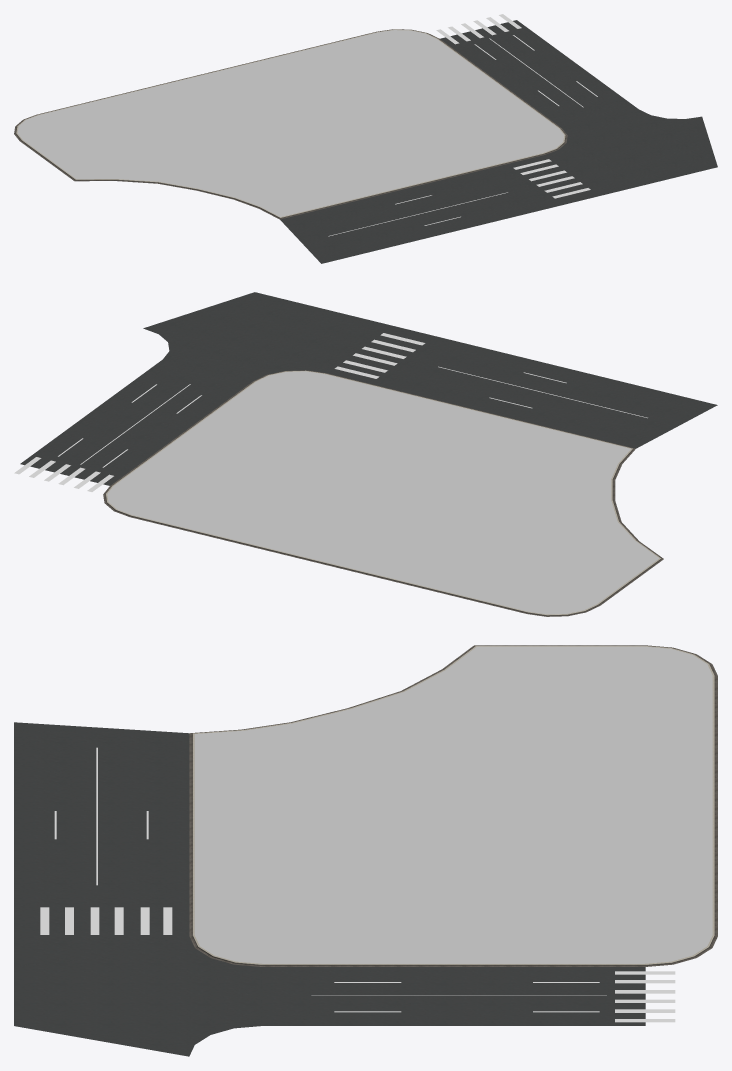
File: New_Terrain_Area_18.fbx
The picture shows the model from 3 angles, top to bottom: view 1: azimuth 30°, elevation 25°; view 2: azimuth 150°, elevation 25°; view 3: azimuth 270°, elevation 25°; orthographic projection. The views are drawn at different scales.
Visible parts, largest first — view 1: Area_18, Road_23.001, Road_Alpha_64, Road_Alpha_33; view 2: Area_18, Road_23.001, Road_Alpha_64, Road_Alpha_33; view 3: Area_18, Road_23.001, Road_Alpha_33, Road_Alpha_64.
Boxes of the visible parts, x1=… form: Area_18: x1=14, y1=29, x2=567, y2=219; Road_23.001: x1=280, y1=20, x2=717, y2=263; Road_Alpha_64: x1=328, y1=159, x2=590, y2=236; Road_Alpha_33: x1=436, y1=14, x2=597, y2=107; Area_18: x1=103, y1=370, x2=663, y2=616; Road_23.001: x1=20, y1=292, x2=717, y2=485; Road_Alpha_64: x1=334, y1=333, x2=647, y2=418; Road_Alpha_33: x1=14, y1=384, x2=201, y2=491; Area_18: x1=189, y1=645, x2=717, y2=966; Road_23.001: x1=14, y1=722, x2=645, y2=1056; Road_Alpha_33: x1=311, y1=971, x2=675, y2=1022; Road_Alpha_64: x1=40, y1=747, x2=172, y2=934.
Bounding box in the file's own units: 6771 × 7.15 × 4896.
